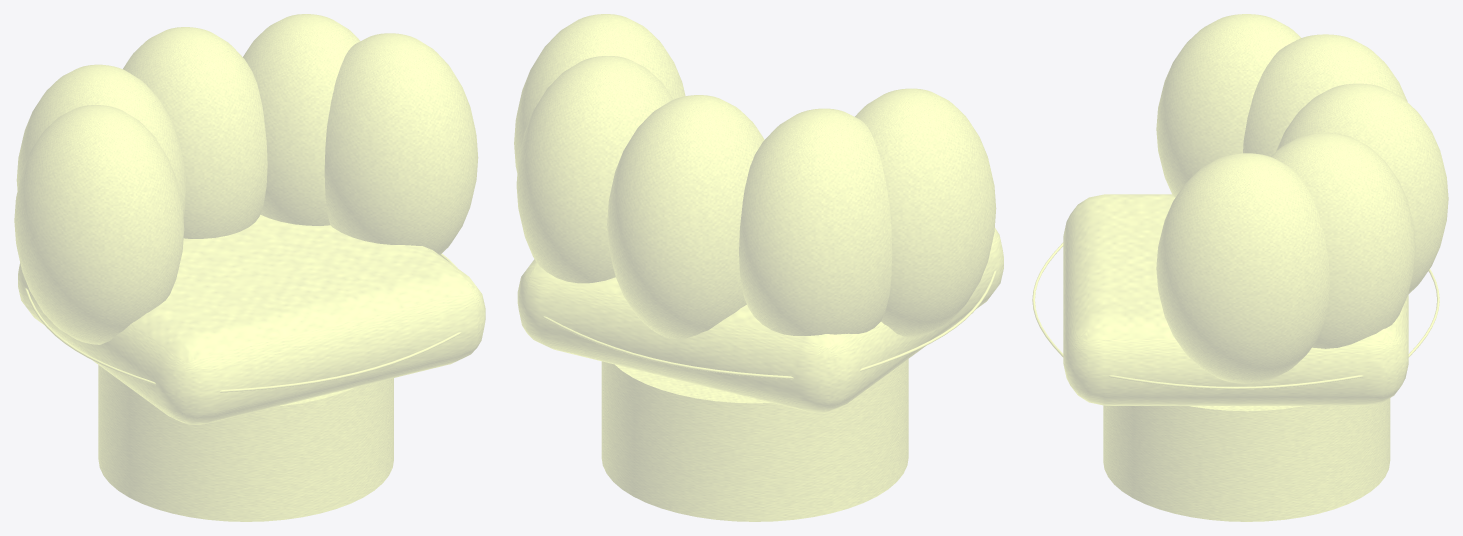
The model's file is ref06_04.glb.
The picture shows the model from 3 angles, left to right: view 1: azimuth 30°, elevation 25°; view 2: azimuth 150°, elevation 25°; view 3: azimuth 270°, elevation 25°; orthographic projection. The views are drawn at different scales.
Parts seen in each view (by area): view 1: ref06_04; view 2: ref06_04; view 3: ref06_04.
Boxes of the visible parts, x1,y1,x2,y2 form: ref06_04: [14, 14, 485, 521]; ref06_04: [514, 14, 1003, 521]; ref06_04: [1032, 14, 1448, 521].
Bounding box in the file's own units: 0.92 × 0.775 × 0.7833.
Materials: 1 (1 with a texture image).
